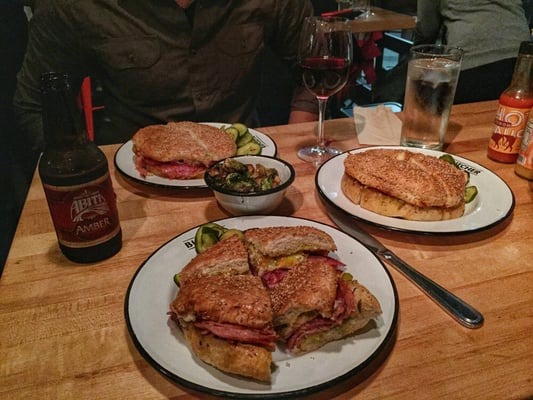sandwich: (312, 187, 484, 330)
soup: (167, 271, 279, 383), (264, 255, 383, 355)
sushi: (204, 155, 295, 216)
